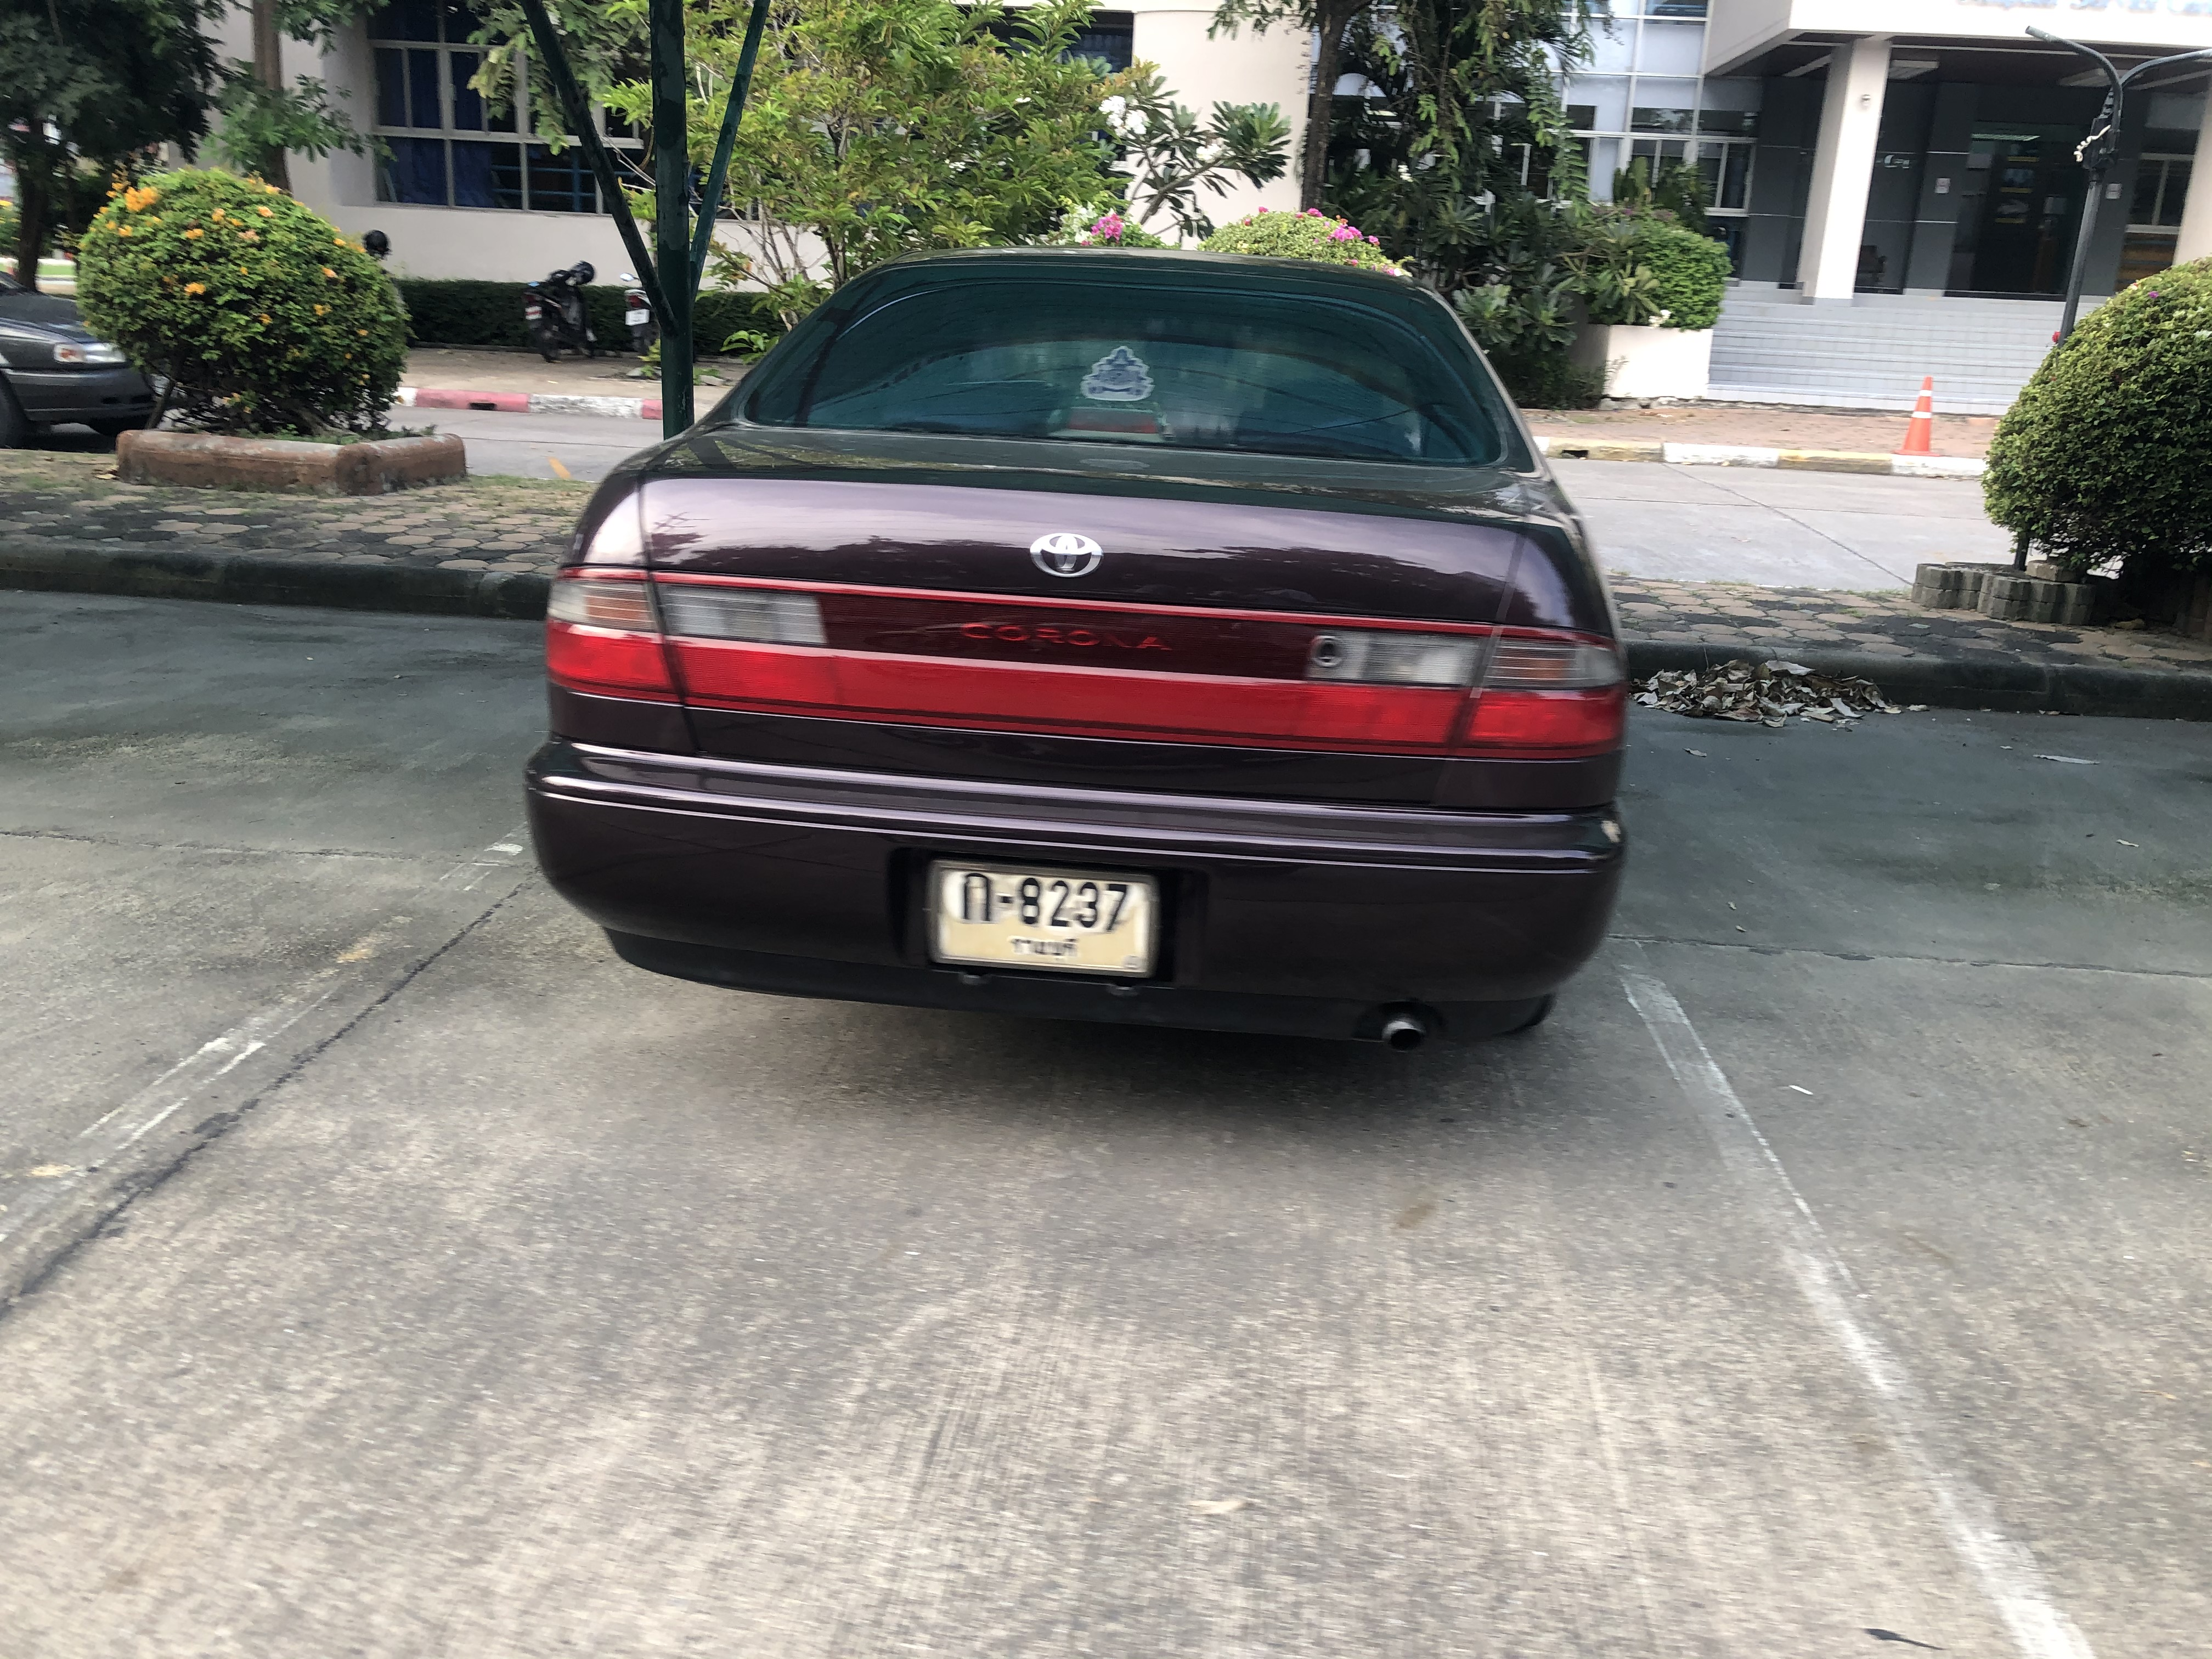in: (937, 868, 1146, 972)
out: (920, 856, 1162, 985)
